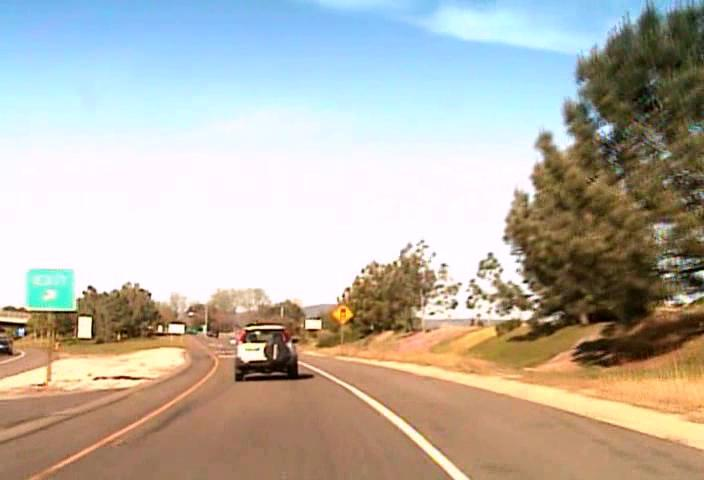signalAhead: (330, 303, 354, 325)
